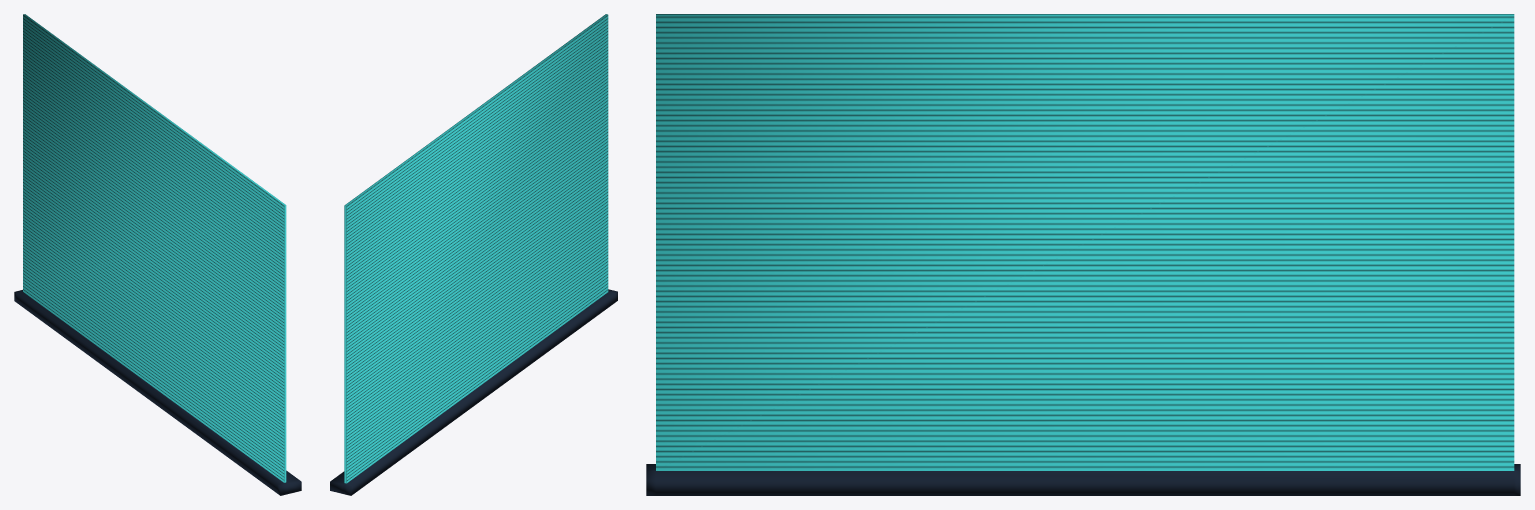
Rendered from tele.FBX.
3 views of the same model, side by side, from view 1: azimuth 30°, elevation 25°; view 2: azimuth 150°, elevation 25°; view 3: azimuth 270°, elevation 25° (orthographic). The views are drawn at different scales.
Visible parts, largest first — view 1: Box001; view 2: Box001; view 3: Box001.
Part boxes in pixels (x1,y1,x2,y2): Box001: (14, 14, 301, 495); Box001: (330, 14, 617, 495); Box001: (646, 14, 1520, 495).
Size of the model in its own units: 1.37 by 17.86 by 30.09.
